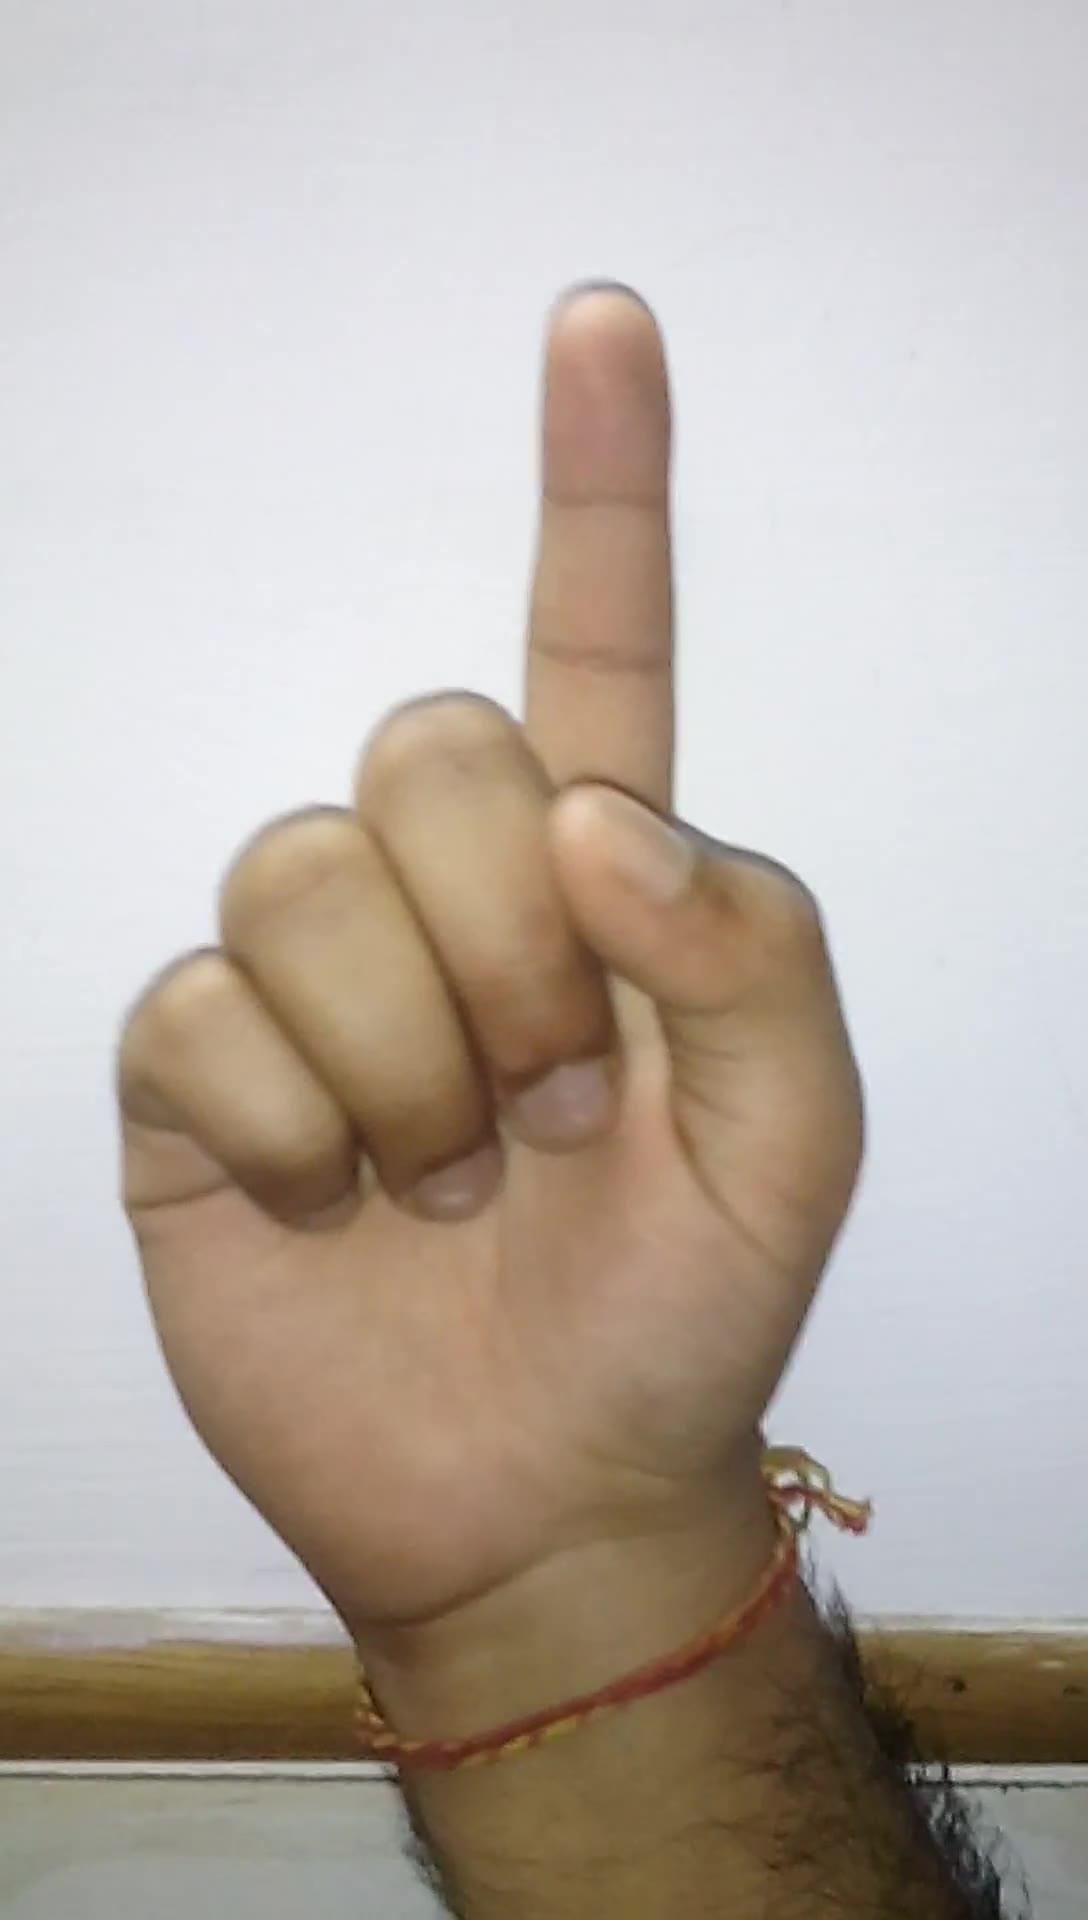I: (137, 217, 917, 1628)
